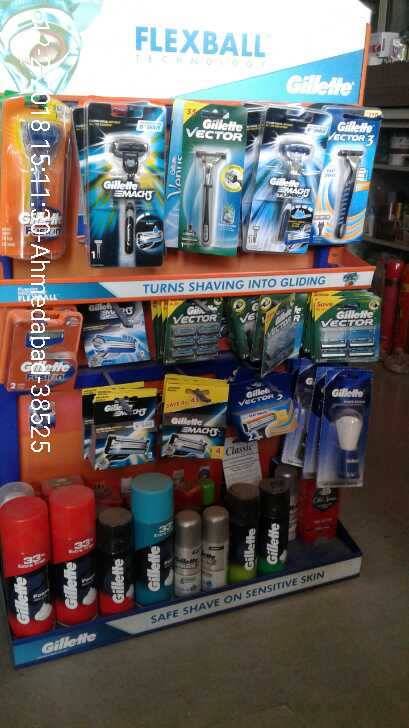beauty: (87, 106, 161, 266), (177, 104, 248, 260), (248, 108, 317, 258), (1, 488, 52, 639), (49, 486, 98, 624), (326, 113, 374, 249), (312, 372, 366, 492), (130, 475, 175, 611), (88, 380, 156, 468), (157, 383, 231, 459), (314, 285, 379, 361), (229, 296, 300, 362), (90, 513, 132, 616), (257, 470, 298, 572), (156, 300, 223, 360), (235, 379, 295, 432), (233, 484, 260, 589)
